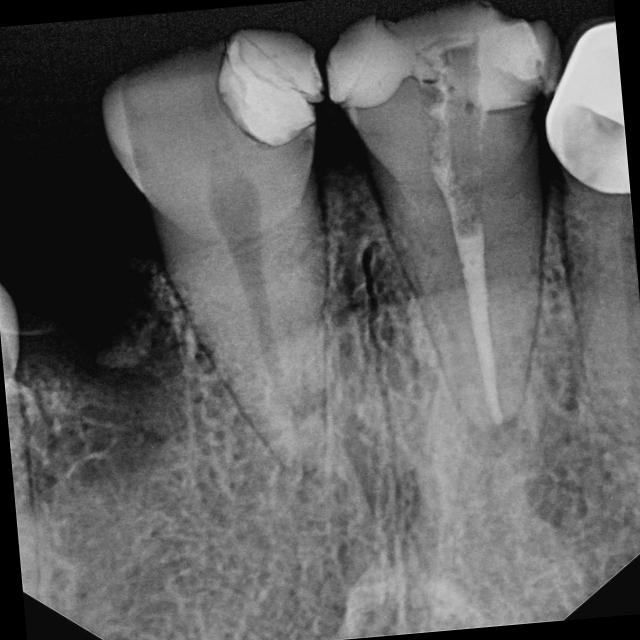Caries: (192, 17, 389, 156)
RCT: (358, 77, 545, 437)
